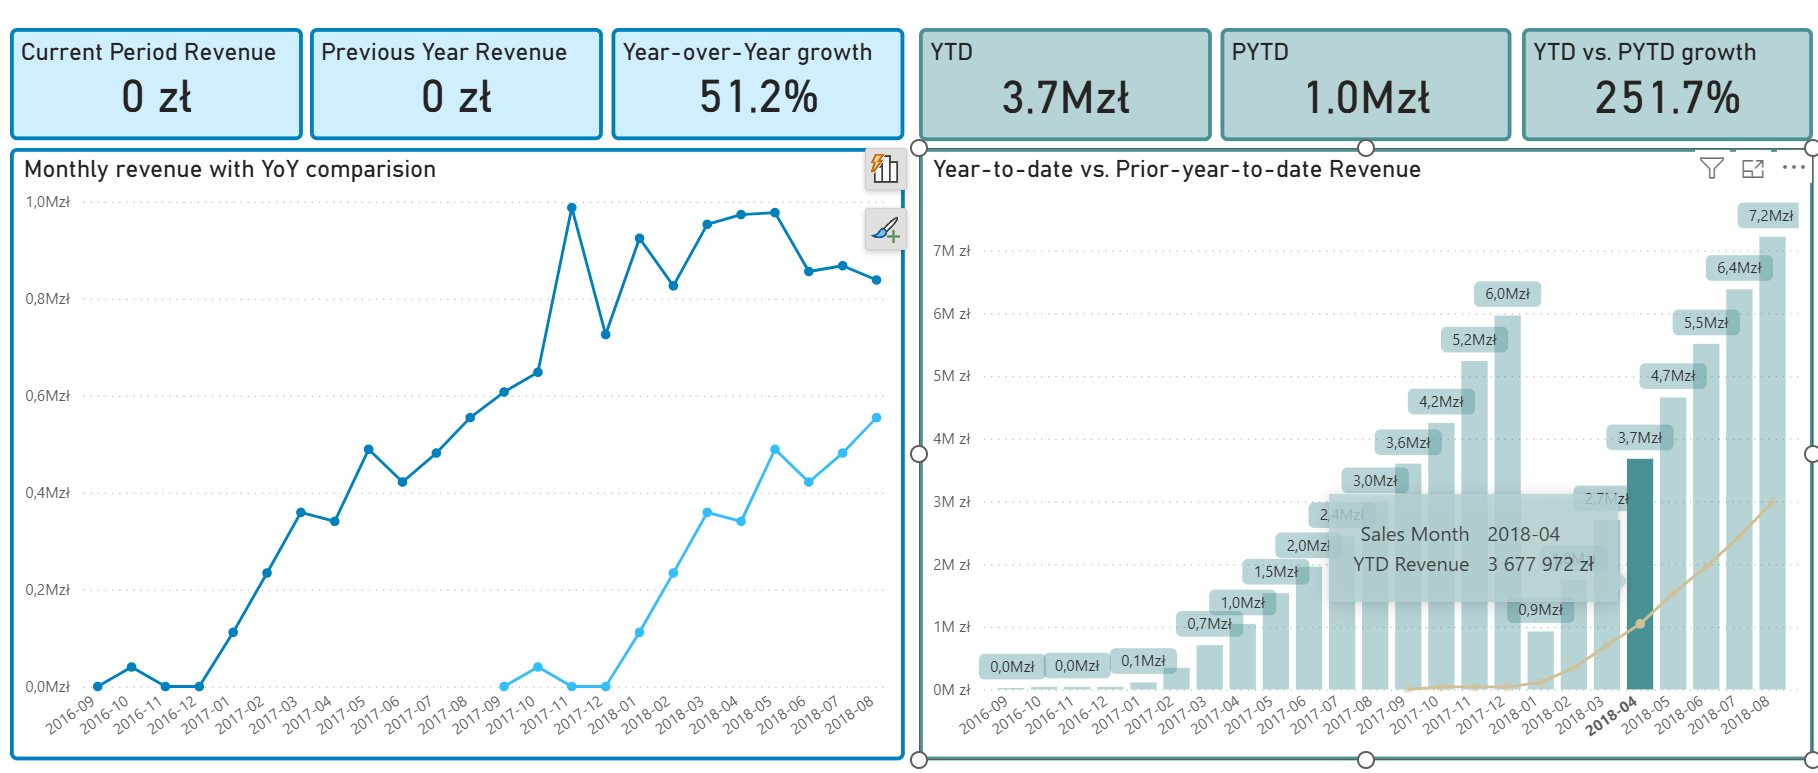

This screenshot's page, from the dashboard's own definition file:
{"tool":"powerbi","page":{"name":"Page 2","canvas":[1280,720],"ordinal":1},"visuals":[{"type":"lineClusteredColumnComboChart","title":"Year-to-date vs. Prior-year-to-date Revenue","fields":{"Category":["ecommerce vw_ytd_pytd.calendar_month"],"Y":["Max(ecommerce vw_ytd_pytd.ytd_revenue)"],"Y2":["Max(ecommerce vw_ytd_pytd.pytd_revenue)"]},"box":[647.5,149.4,627,429.1],"z":0},{"type":"card","title":"YTD","fields":{"Values":["Min(ecommerce vw_ytd_pytd.ytd_revenue)"]},"box":[647.5,65.1,205.6,79.2],"z":1000},{"type":"card","title":"PYTD","fields":{"Values":["Min(ecommerce vw_ytd_pytd.pytd_revenue)"]},"box":[859.4,65.1,204.3,79.2],"z":2000},{"type":"card","title":"YTD vs. PYTD growth","fields":{"Values":["Min(ecommerce vw_ytd_pytd.ytd_change_pct)"]},"box":[1070.1,65.1,204.3,79.2],"z":3000},{"type":"lineChart","title":"Monthly revenue with YoY comparision","fields":{"Category":["ecommerce vw_mom_yoy.calendar_month"],"Y":["Max(ecommerce vw_mom_yoy.monthly_revenue)","Max(ecommerce vw_mom_yoy.previous_year_rev)"]},"box":[10.2,149.4,627,429.1],"z":4000},{"type":"card","title":"Year-over-Year growth","fields":{"Values":["Min(ecommerce vw_mom_yoy.yoy_growth_pct)"]},"box":[431.7,64.9,205.4,78.8],"z":5000},{"type":"card","title":"Previous Year Revenue","fields":{"Values":["Min(ecommerce vw_mom_yoy.previous_year_rev)"]},"box":[221,64.9,205.4,78.8],"z":6000},{"type":"card","title":"Current Period Revenue","fields":{"Values":["Min(ecommerce vw_mom_yoy.monthly_revenue)"]},"box":[10.2,64.9,205.4,78.8],"z":7000}]}

Visuals, with their boxes on the page's 1280x720 design canvas (x1, y1, x2, y2). These are canvas units, not pixel positions in the 1818x773 screenshot, which may show the page scaled, cropped or inside an application window:
"Year-to-date vs. Prior-year-to-date Revenue" lineClusteredColumnComboChart: 648, 149, 1274, 578
"YTD" card: 648, 65, 853, 144
"PYTD" card: 859, 65, 1064, 144
"YTD vs. PYTD growth" card: 1070, 65, 1274, 144
"Monthly revenue with YoY comparision" lineChart: 10, 149, 637, 578
"Year-over-Year growth" card: 432, 65, 637, 144
"Previous Year Revenue" card: 221, 65, 426, 144
"Current Period Revenue" card: 10, 65, 216, 144
